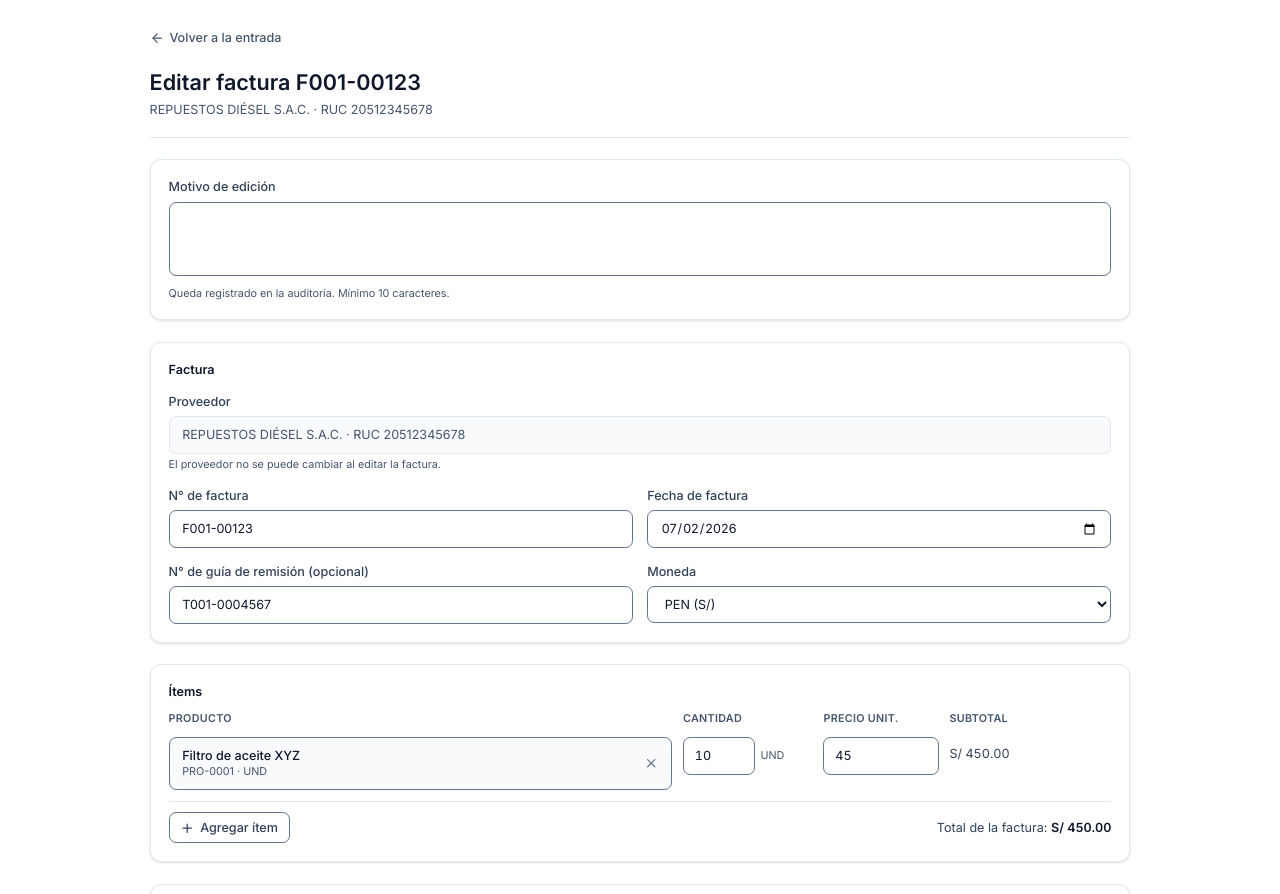
Test: EntryEditPage › agregar una fila conserva los valores prefilleados
The width and height of the screenshot is (1280, 894).
Click the button "Agregar ítem": {"x": 229, "y": 828} [169,812,290,843]
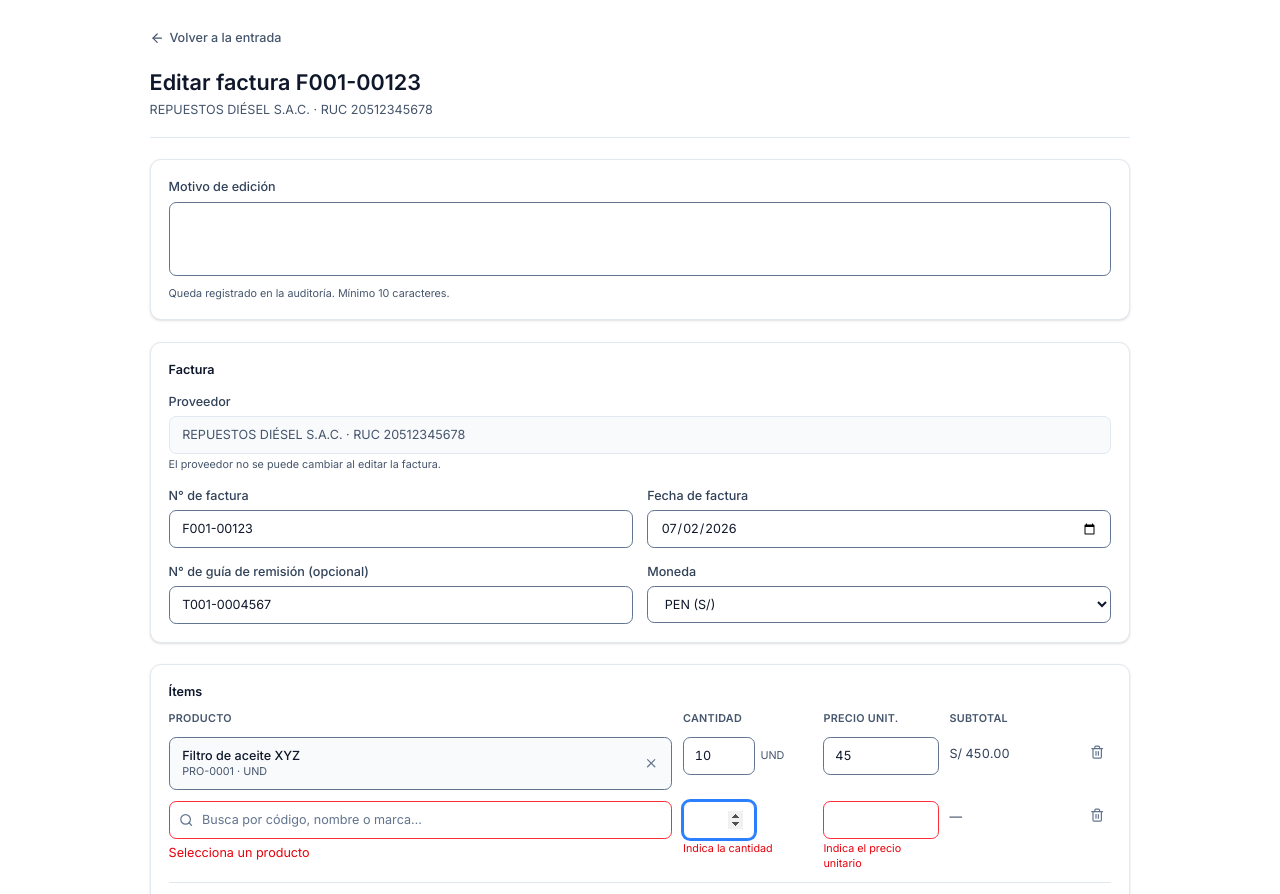
expect the number field named "Cantidad del ítem 1" holds "10": met, box [683,737,755,775]
expect the dropdown named "Producto del ítem 2" is shown: met, box [169,801,672,839]
